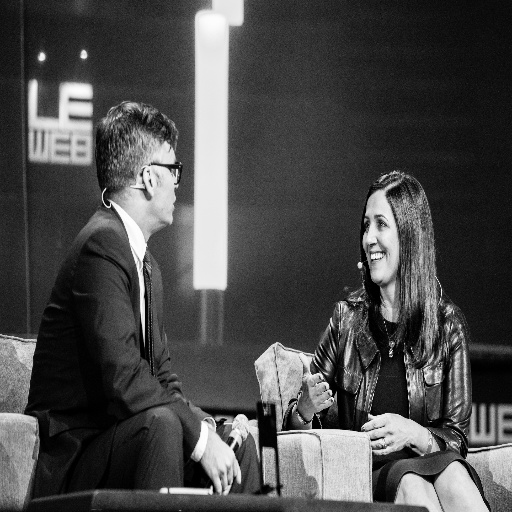hand: (191, 425, 235, 495), (298, 351, 334, 417), (360, 414, 413, 456)
